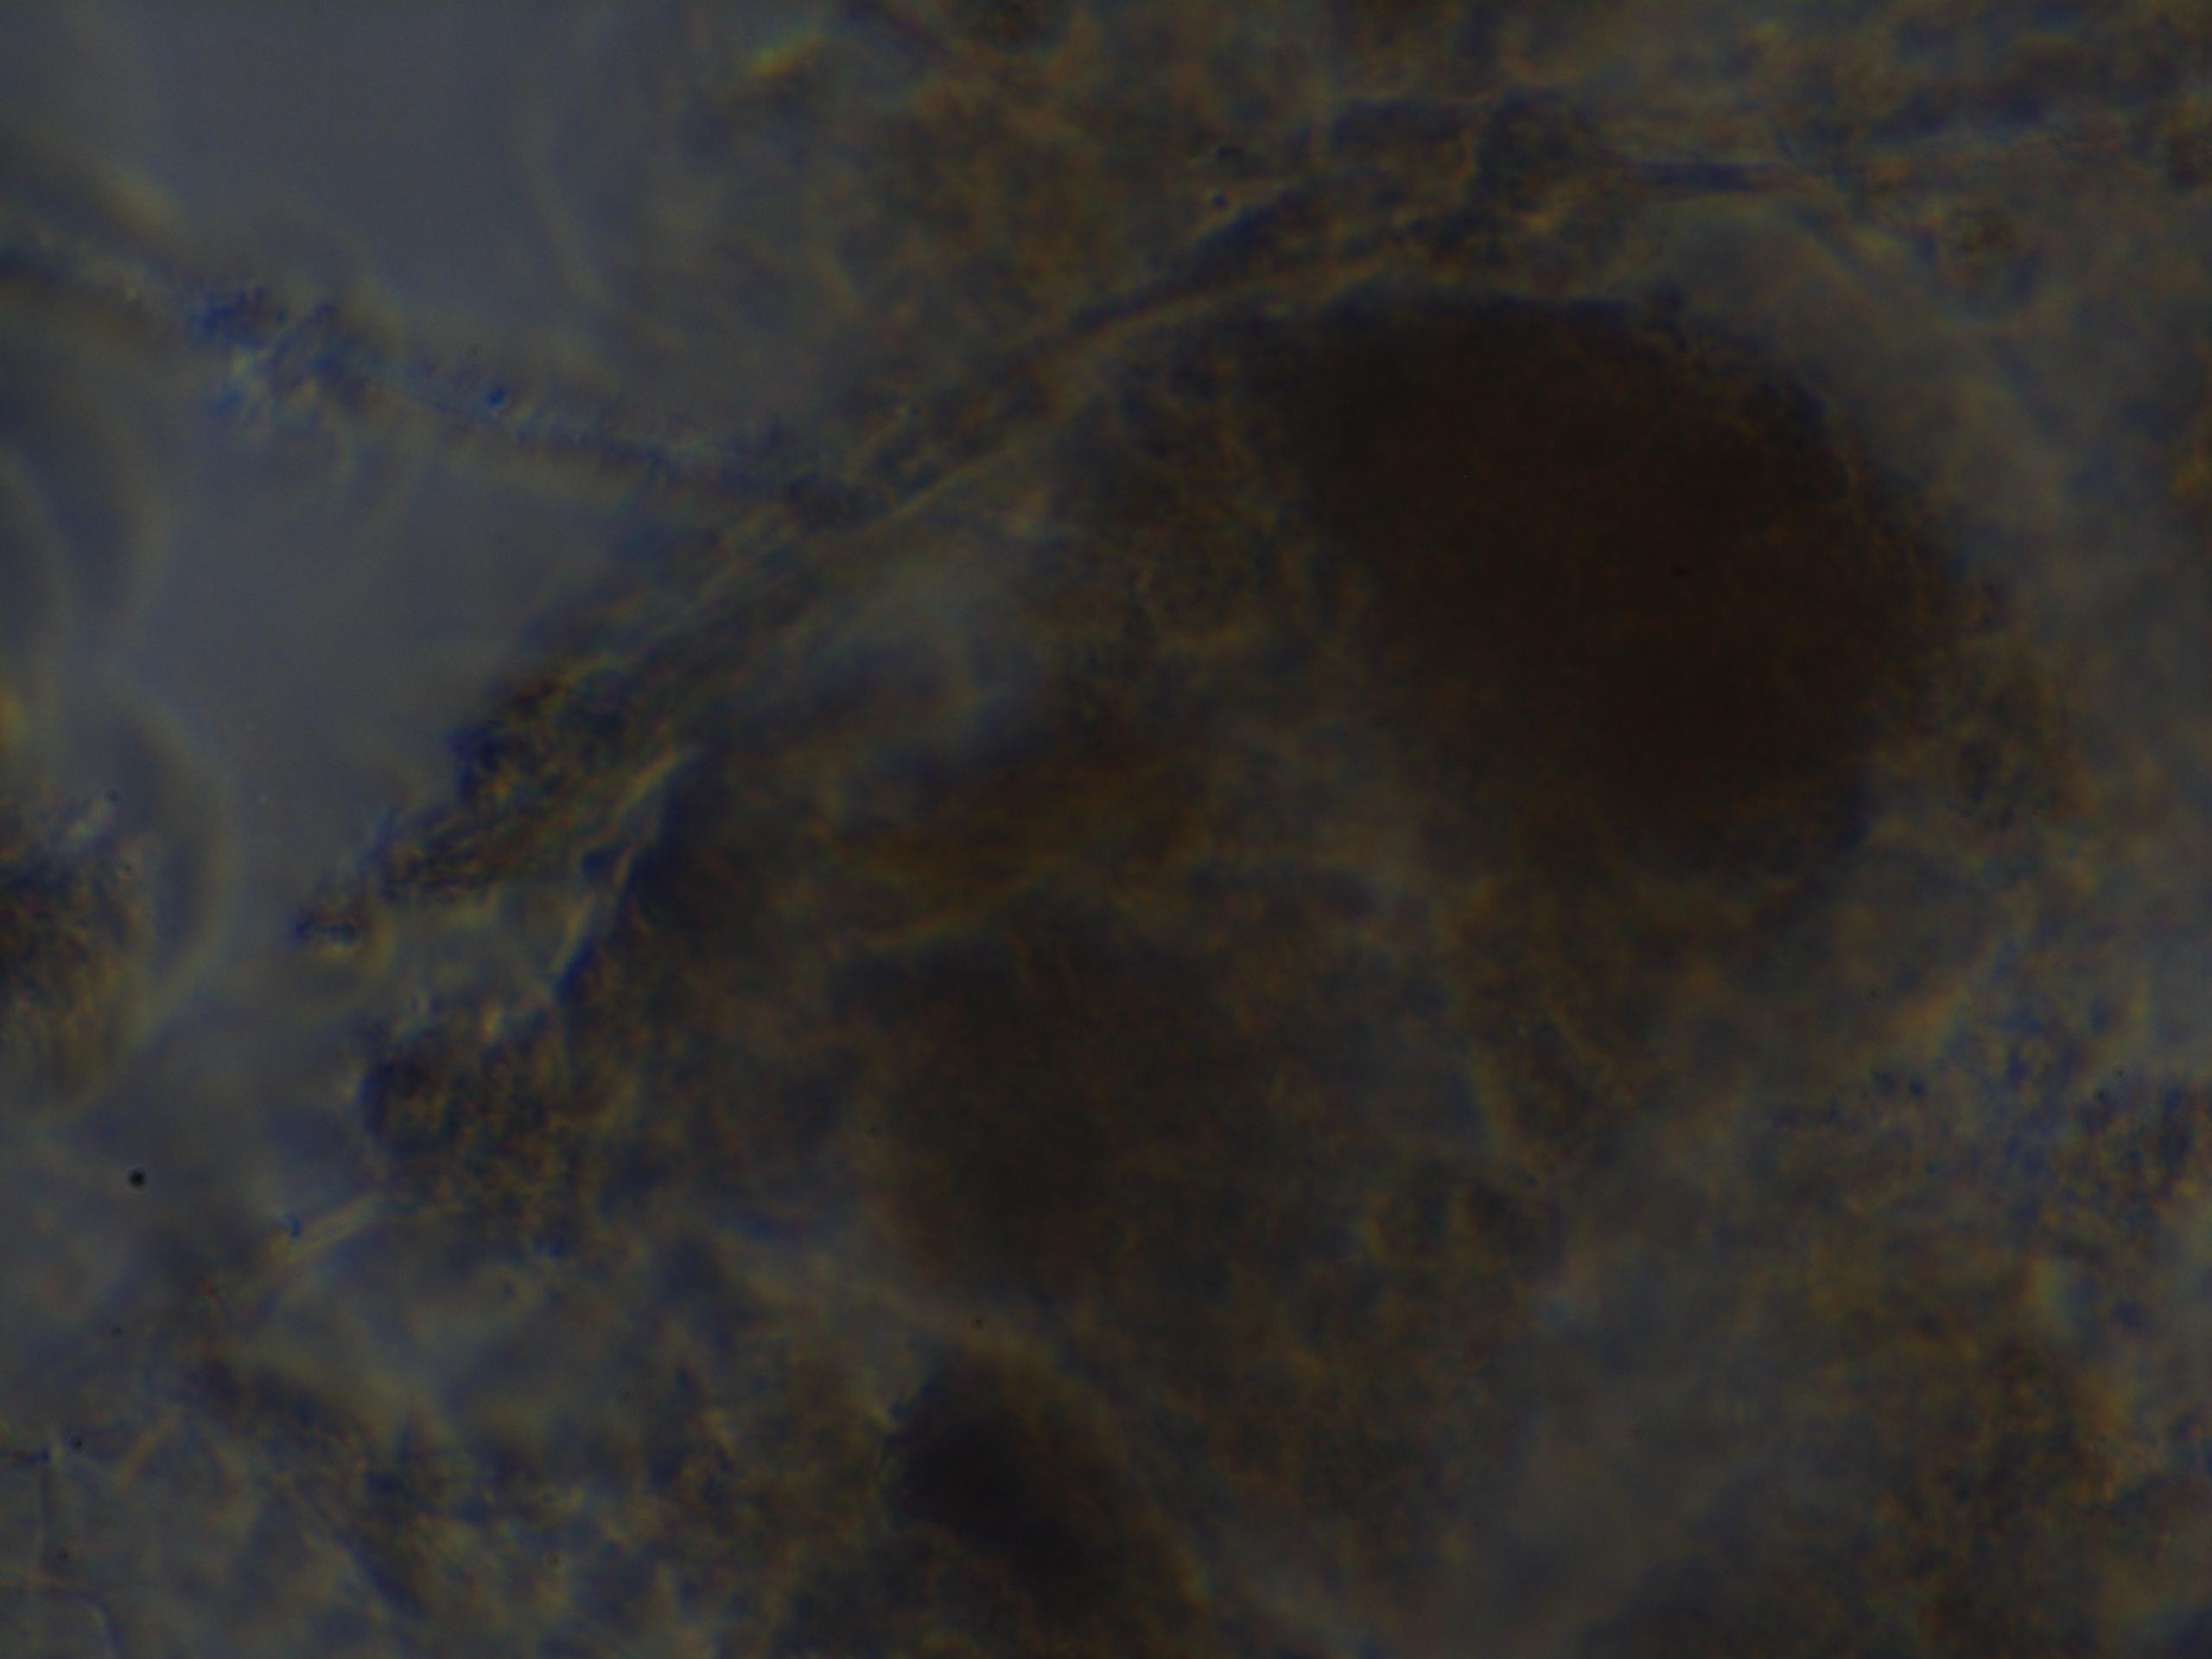filament: (0, 204, 742, 532)
